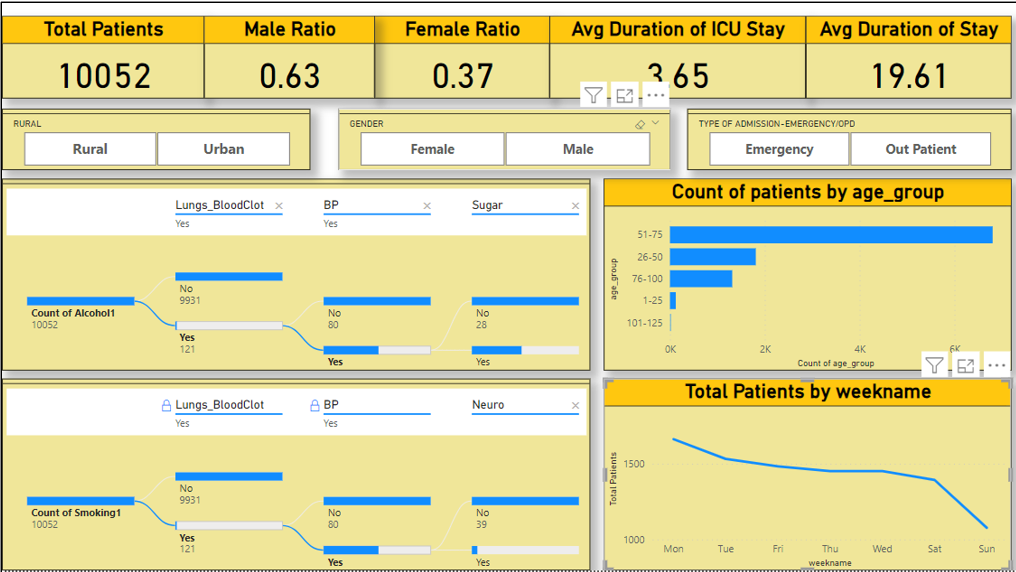

The page's visual inventory and layout, read from the dashboard file:
{"tool":"powerbi","page":{"name":"Page 1","canvas":[1280,720],"ordinal":0},"visuals":[{"type":"card","title":"Total Patients","fields":{"Values":["Patient Details.Total Patients"]},"box":[0,46.6,245.4,100.1],"z":0},{"type":"card","title":"Female Ratio","fields":{"Values":["Patient Details.Females"]},"box":[452.4,46.6,212.5,100.1],"z":1000},{"type":"card","title":"Male Ratio","fields":{"Values":["Patient Details.Males"]},"box":[245.4,46.6,207,100.1],"z":2000},{"type":"decompositionTreeVisual","fields":{"Analyze":["CountNonNull(Patient Details.Alcohol1)"],"ExplainBy":["Patient Details.Lungs_BloodClot","Patient Details.BP","Patient Details.Sugar"]},"box":[0,244,714.3,233.1],"z":3000},{"type":"decompositionTreeVisual","fields":{"Analyze":["CountNonNull(Patient Details.Smoking1)"],"ExplainBy":["Patient Details.Lungs_BloodClot","Patient Details.BP","Patient Details.Neuro"]},"box":[0,486.7,714.3,233.1],"z":4000},{"type":"barChart","title":"Count of patients by age_group","fields":{"Category":["Patient Details.age_group"],"Y":["CountNonNull(Patient Details.age_group)"]},"box":[730.8,244,494.9,233.1],"z":5000},{"type":"lineChart","fields":{"Category":["Patient Details.weekname"],"Y":["Patient Details.Total Patients"]},"box":[730.8,486.7,494.9,233.1],"z":6000},{"type":"card","title":"Avg Duration of ICU Stay","fields":{"Values":["Avg(Patient Details.duration of intensive unit stay)"]},"box":[665,46.6,311.2,100.1],"z":7000},{"type":"card","title":"Avg Duration of Stay","fields":{"Values":["Avg(Patient Details.Duration of Stay)"]},"box":[976.2,46.6,249.5,100.1],"z":8000},{"type":"slicer","fields":{"Values":["Patient Details.RURAL"]},"box":[0,159,374.3,74],"z":9000},{"type":"slicer","fields":{"Values":["Patient Details.GENDER"]},"box":[408.6,159,403.1,74],"z":10000},{"type":"slicer","fields":{"Values":["Patient Details.TYPE OF ADMISSION-EMERGENCY/OPD"]},"box":[832.2,159,393.5,74],"z":11000}]}

Visuals, with their boxes in screenshot pixels (x1, y1, x2, y2), scaled from the page's 1280x720 canvas onto the 1016x572 screenshot:
"Total Patients" card: 0 37 195 117
"Female Ratio" card: 359 37 528 117
"Male Ratio" card: 195 37 359 117
decompositionTreeVisual - CountNonNull(Patient Details.Alcohol1) x Patient Details.Lungs_BloodClot: 0 194 567 379
decompositionTreeVisual - CountNonNull(Patient Details.Smoking1) x Patient Details.Lungs_BloodClot: 0 387 567 571
"Count of patients by age_group" barChart: 580 194 973 379
lineChart - Patient Details.weekname x Patient Details.Total Patients: 580 387 973 571
"Avg Duration of ICU Stay" card: 528 37 775 117
"Avg Duration of Stay" card: 775 37 973 117
slicer - Patient Details.RURAL: 0 126 297 185
slicer - Patient Details.GENDER: 324 126 644 185
slicer - Patient Details.TYPE OF ADMISSION-EMERGENCY/OPD: 661 126 973 185
